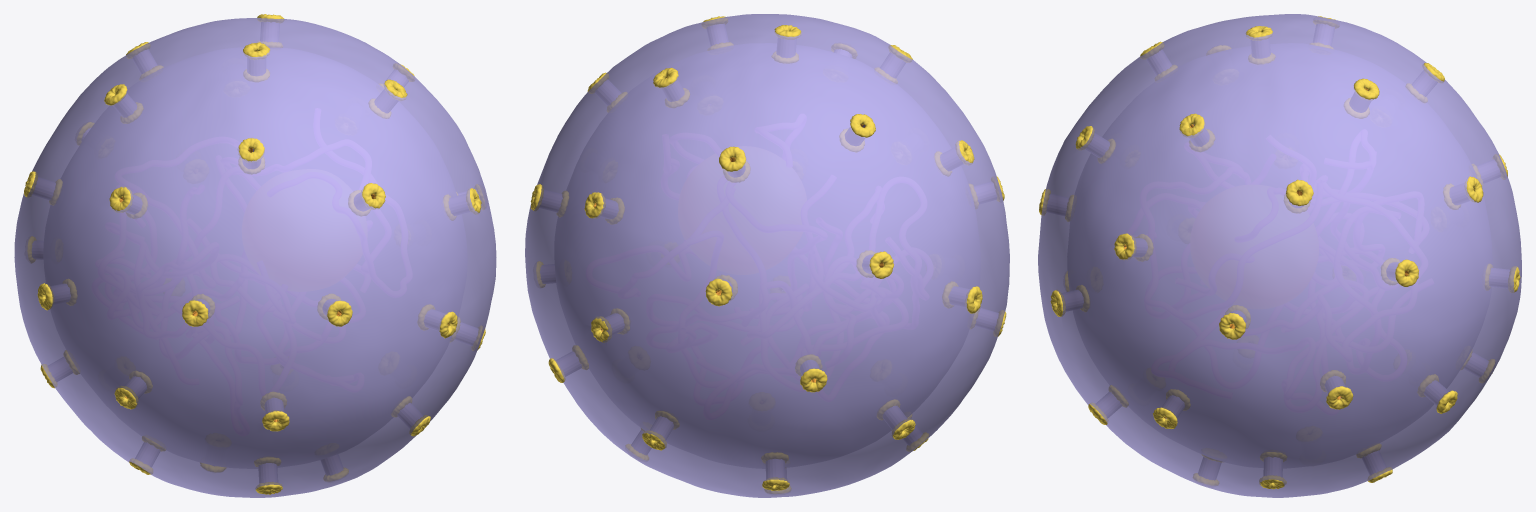
The model's file is nucleus_unity.fbx.
3 views of the same model, side by side, from view 1: azimuth 30°, elevation 25°; view 2: azimuth 150°, elevation 25°; view 3: azimuth 270°, elevation 25° (orthographic).
Parts seen in each view (by area): view 1: Nuclear_Envelope.001, Nuclear_Pores; view 2: Nuclear_Envelope.001, Nuclear_Pores; view 3: Nuclear_Envelope.001, Nuclear_Pores.
Part boxes in pixels (box(x1,y1,x2,y2)): Nuclear_Envelope.001: box(14, 18, 496, 497); Nuclear_Pores: box(24, 14, 485, 494); Nuclear_Envelope.001: box(525, 14, 1009, 497); Nuclear_Pores: box(530, 16, 1006, 493); Nuclear_Envelope.001: box(1038, 14, 1521, 497); Nuclear_Pores: box(1039, 16, 1520, 489).
Size of the model in its own units: 2.01 by 2.01 by 2.
